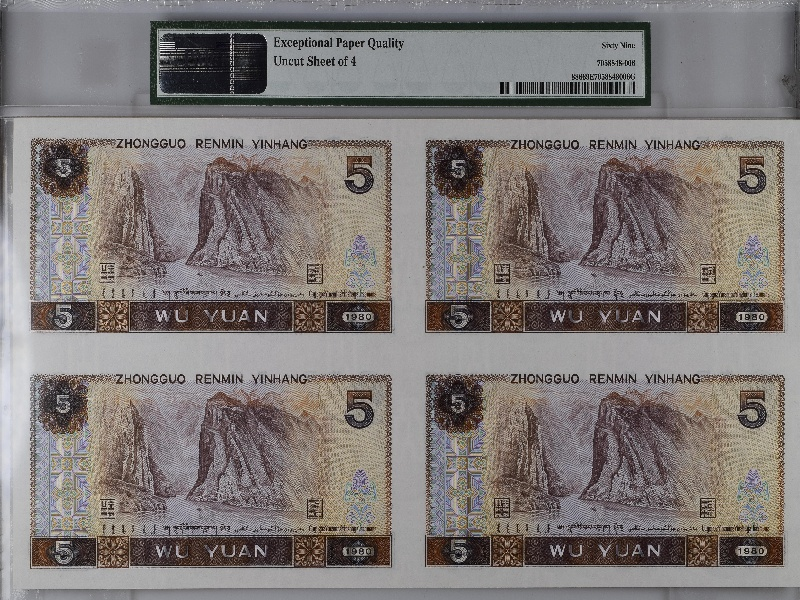papernote: (13, 113, 799, 587)
